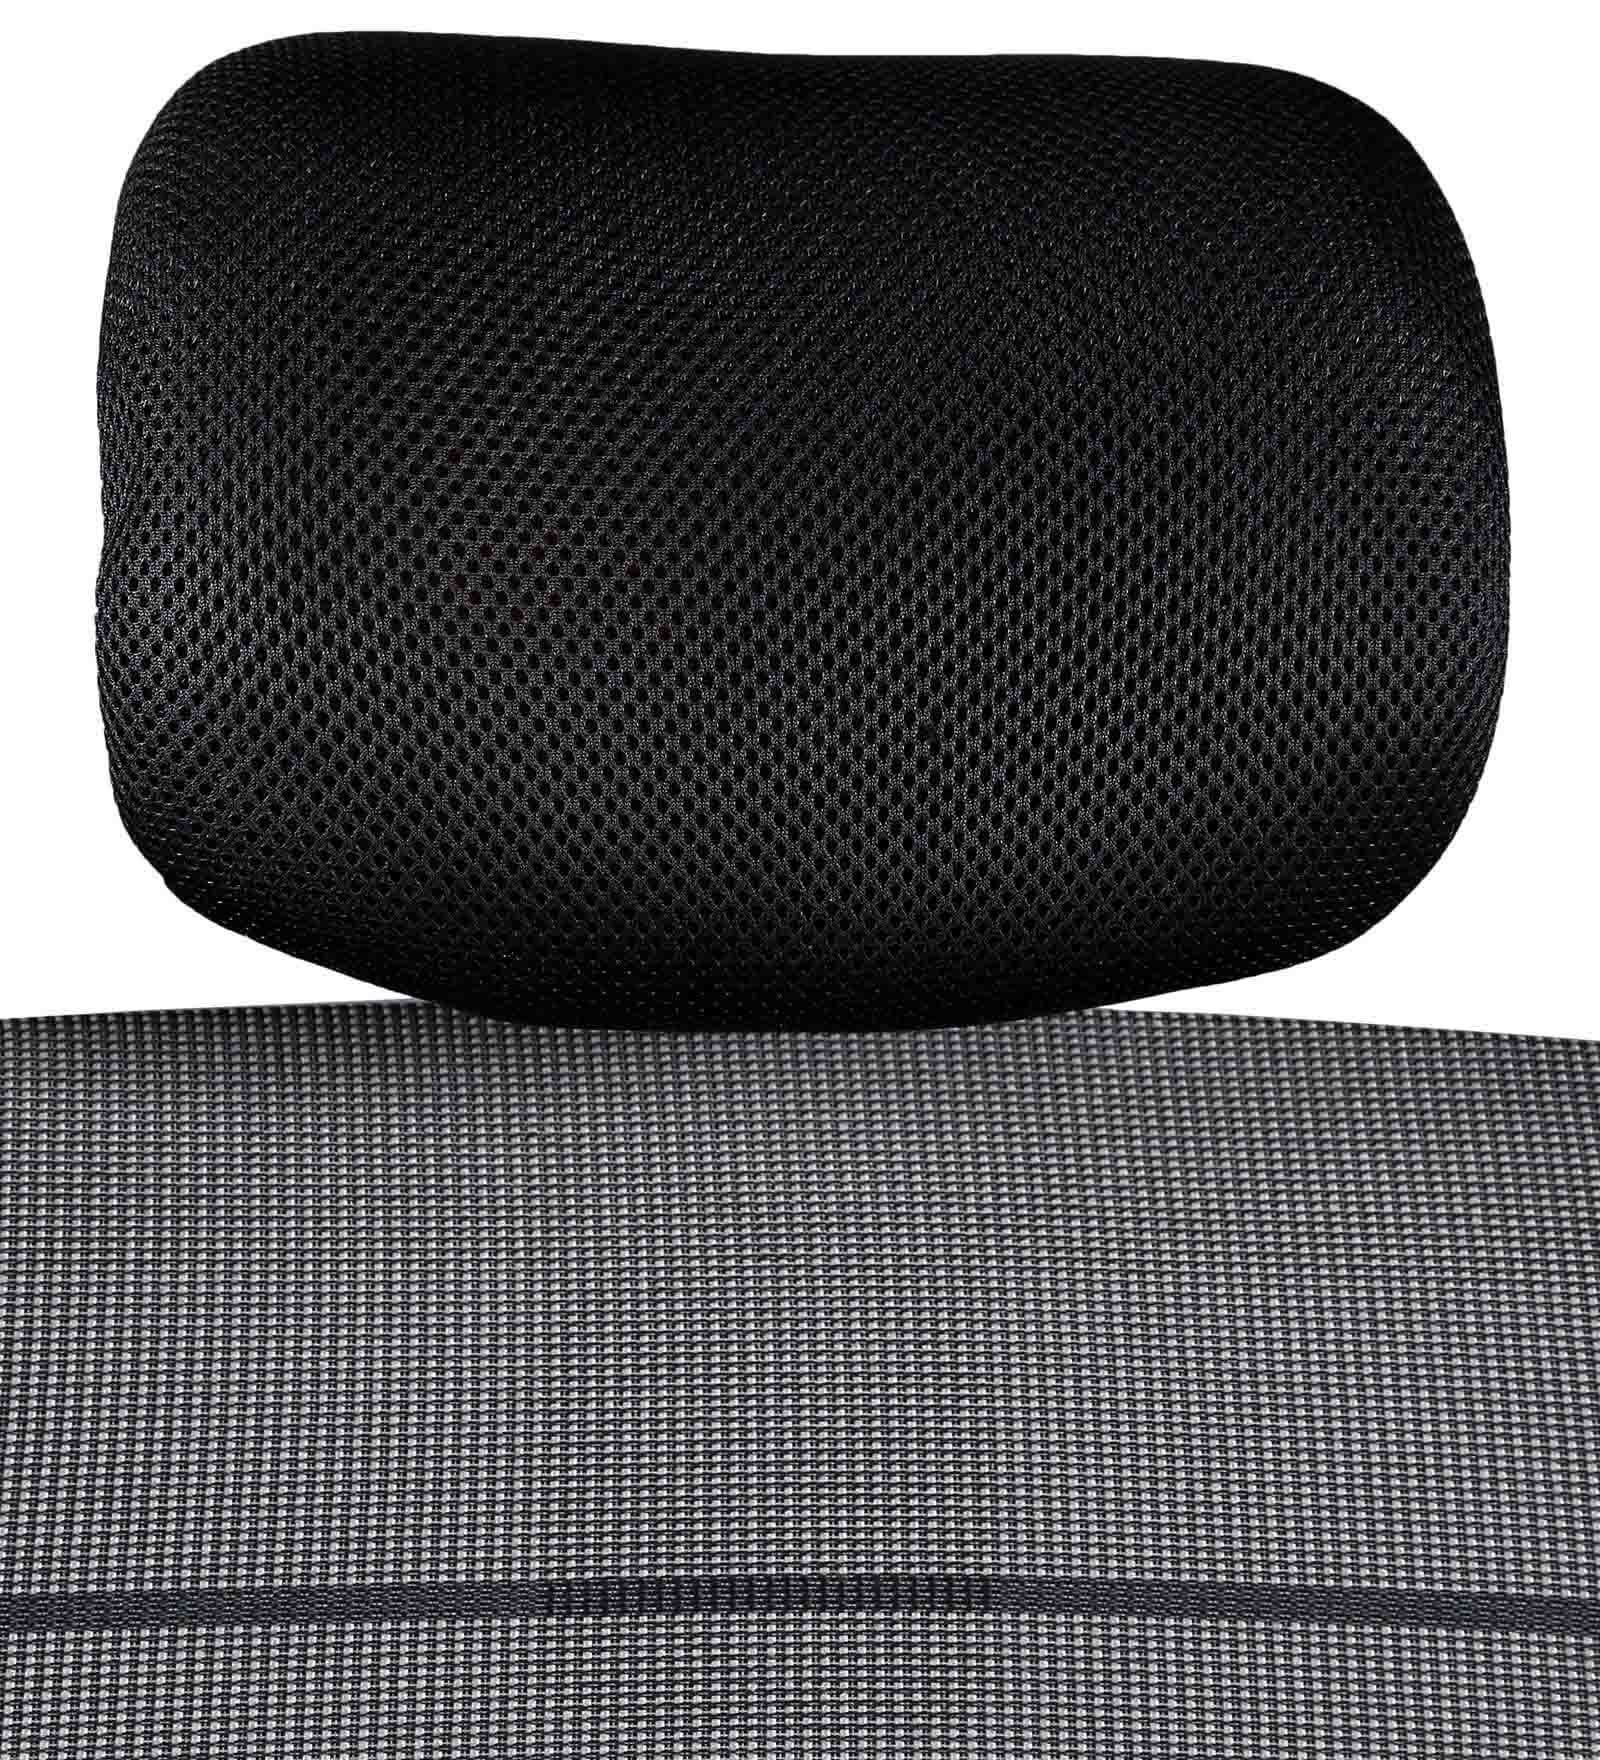Ergo High Back Ergonomic Chair in Black Colour by HomeTown: (9, 15, 1600, 1743)
